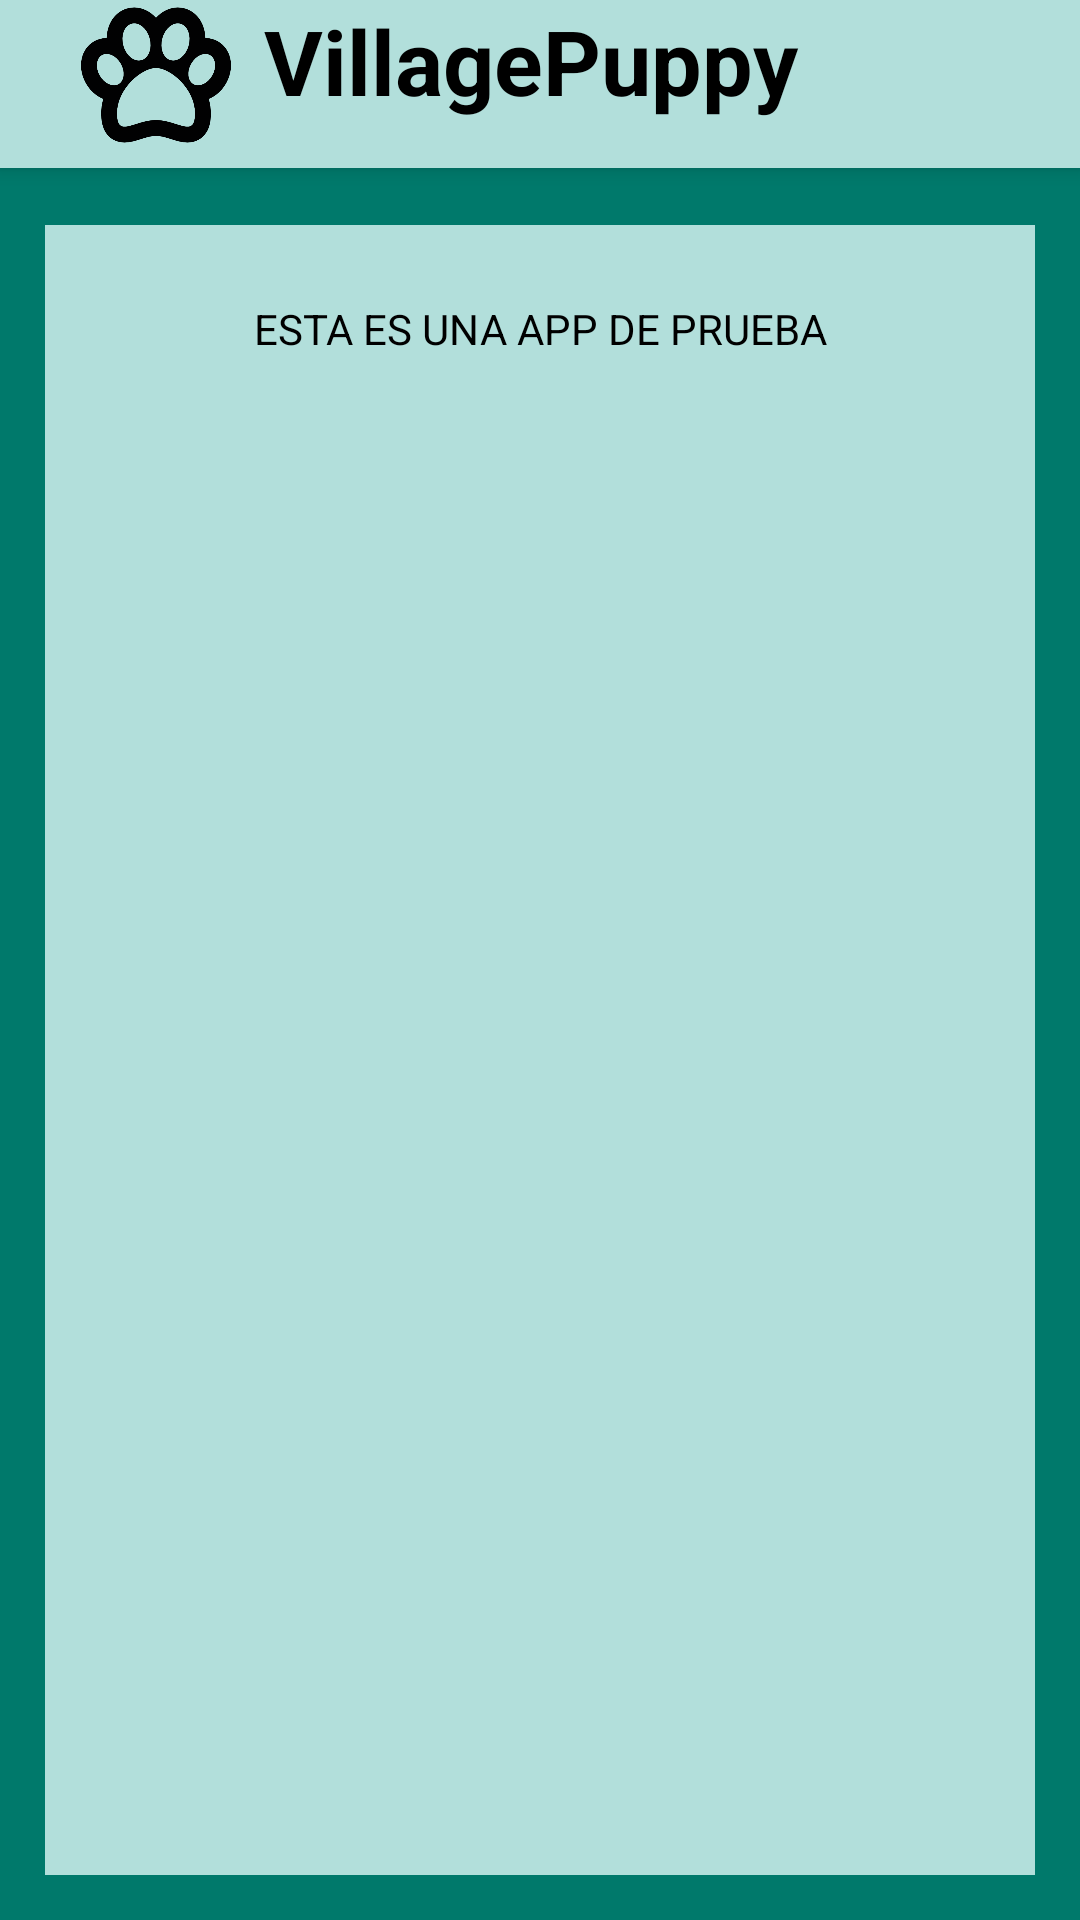

Screen size 1080w x 1920h. Icon name, then its center in pixels as point (x, y):
huella: point (156, 75)
